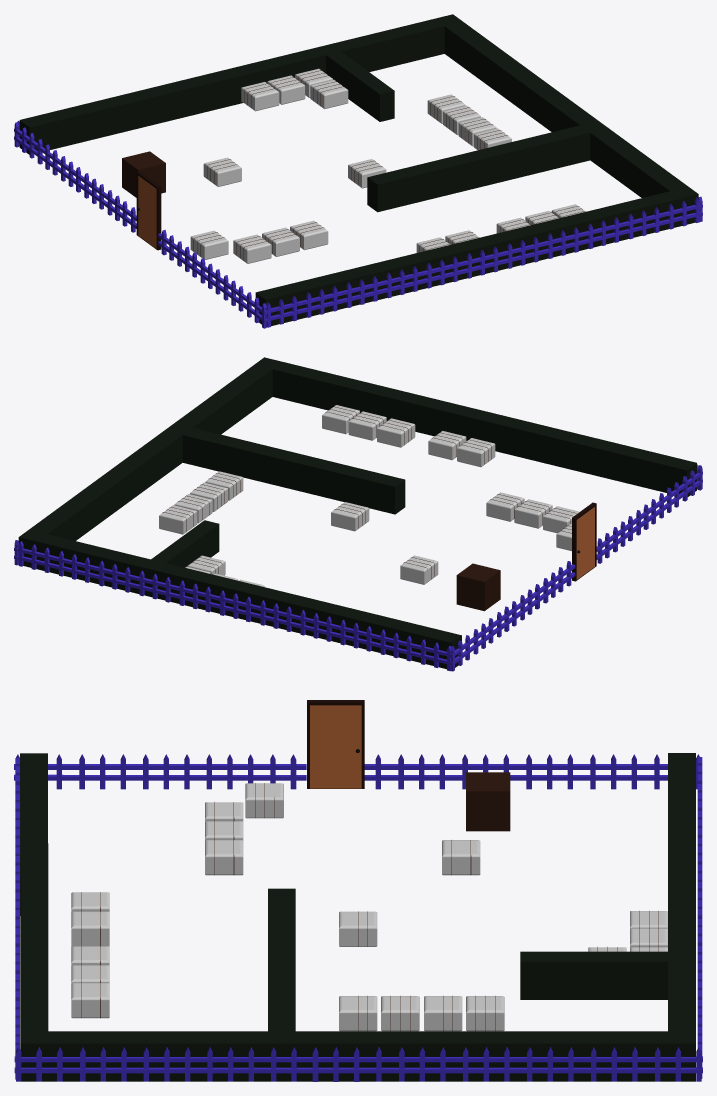
Rendered from CowPen.obj.
3 views of the same model, one above another, from view 1: azimuth 30°, elevation 25°; view 2: azimuth 150°, elevation 25°; view 3: azimuth 270°, elevation 25° (orthographic). The views are drawn at different scales.
Visible parts, largest first — view 1: Bushes, Fences, Box, Door, HayBale5, HayBale1, HayBale4, HayBale, HayBale8, HayBale6, HayBale7, HayBale2 (+7 smaller); view 2: Bushes, Fences, Box, Door, HayBale.019, HayBale9, HayBale.014, HayBale.015, HayBale8, HayBale10, HayBale6, HayBale.013 (+8 smaller); view 3: Bushes, Fences, Door, Box, HayBale10, HayBale.012, HayBale.017, HayBale.019, HayBale, HayBale7, HayBale8, HayBale9 (+10 smaller).
Boxes of the visible parts, x1,y1,x2,y2 form: Bushes: (19,14,698,326); Fences: (14,121,702,328); Box: (122,151,165,197); Door: (138,176,156,248); HayBale5: (233,234,271,263); HayBale1: (241,82,279,111); HayBale4: (310,80,348,109); HayBale: (190,230,228,259); HayBale8: (203,157,241,186); HayBale6: (262,227,299,256); HayBale7: (290,220,328,250); HayBale2: (267,75,305,104); Bushes: (18,357,696,669); Fences: (14,464,702,671); Box: (456,563,500,611); Door: (576,507,594,579); HayBale.019: (159,505,197,534); HayBale9: (331,502,369,531); HayBale.014: (377,418,415,447); HayBale.015: (457,438,495,467); HayBale8: (400,555,438,584); HayBale10: (428,431,466,460); HayBale6: (514,499,552,528); HayBale.013: (348,411,386,440); Bushes: (20,753,695,1081); Fences: (14,754,702,1081); Door: (310,705,361,788); Box: (466,772,510,831); HayBale10: (71,911,109,946); HayBale.012: (71,983,109,1018); HayBale.017: (381,996,419,1031); HayBale.019: (466,996,504,1031); HayBale: (245,783,283,818); HayBale7: (205,840,243,875); HayBale8: (442,840,480,875); HayBale9: (339,911,377,946).
Size of the model in its own units: 81.62 by 11.4 by 80.38.
